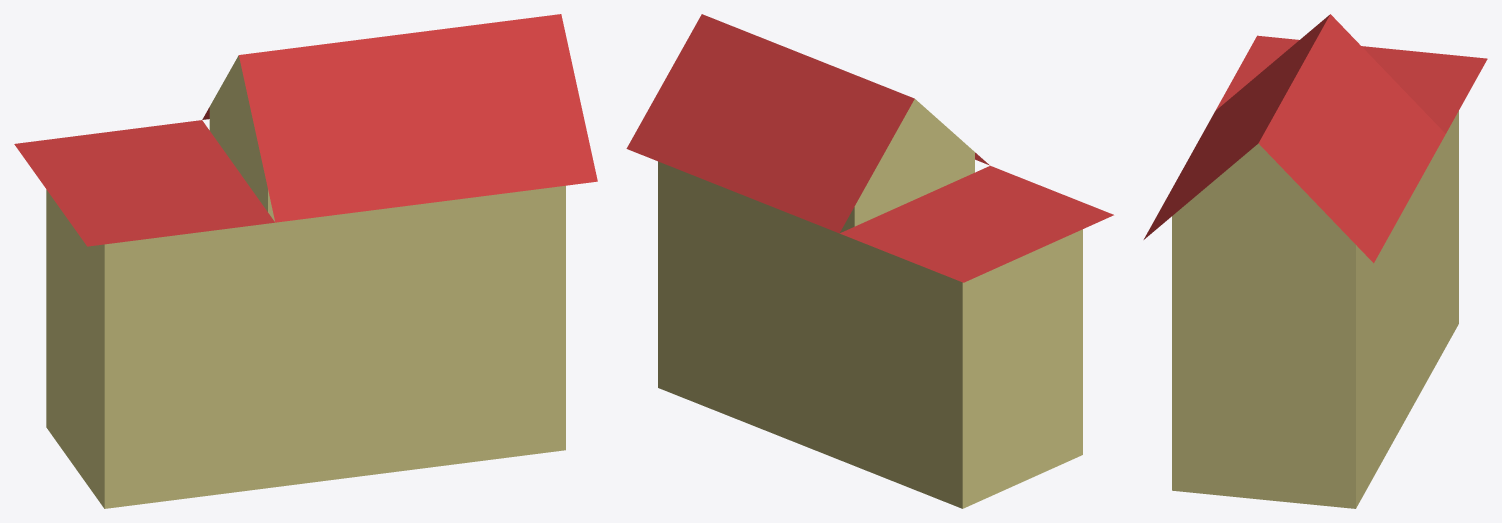
3 renders of one model, left to right at view 1: azimuth 30°, elevation 25°; view 2: azimuth 150°, elevation 25°; view 3: azimuth 270°, elevation 25°, orthographic. The views are drawn at different scales.
Bounding box in the file's own units: 11.21 × 7.17 × 8.4.
